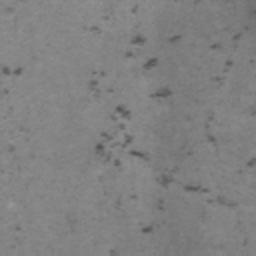Oxide scale of temperature system: (88, 24, 256, 236), (1, 61, 24, 95), (15, 223, 22, 232), (9, 143, 15, 152)
